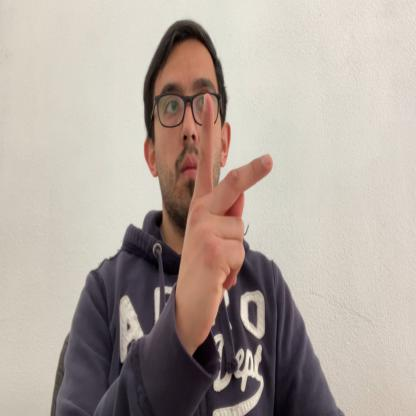P: (178, 90, 274, 348)
